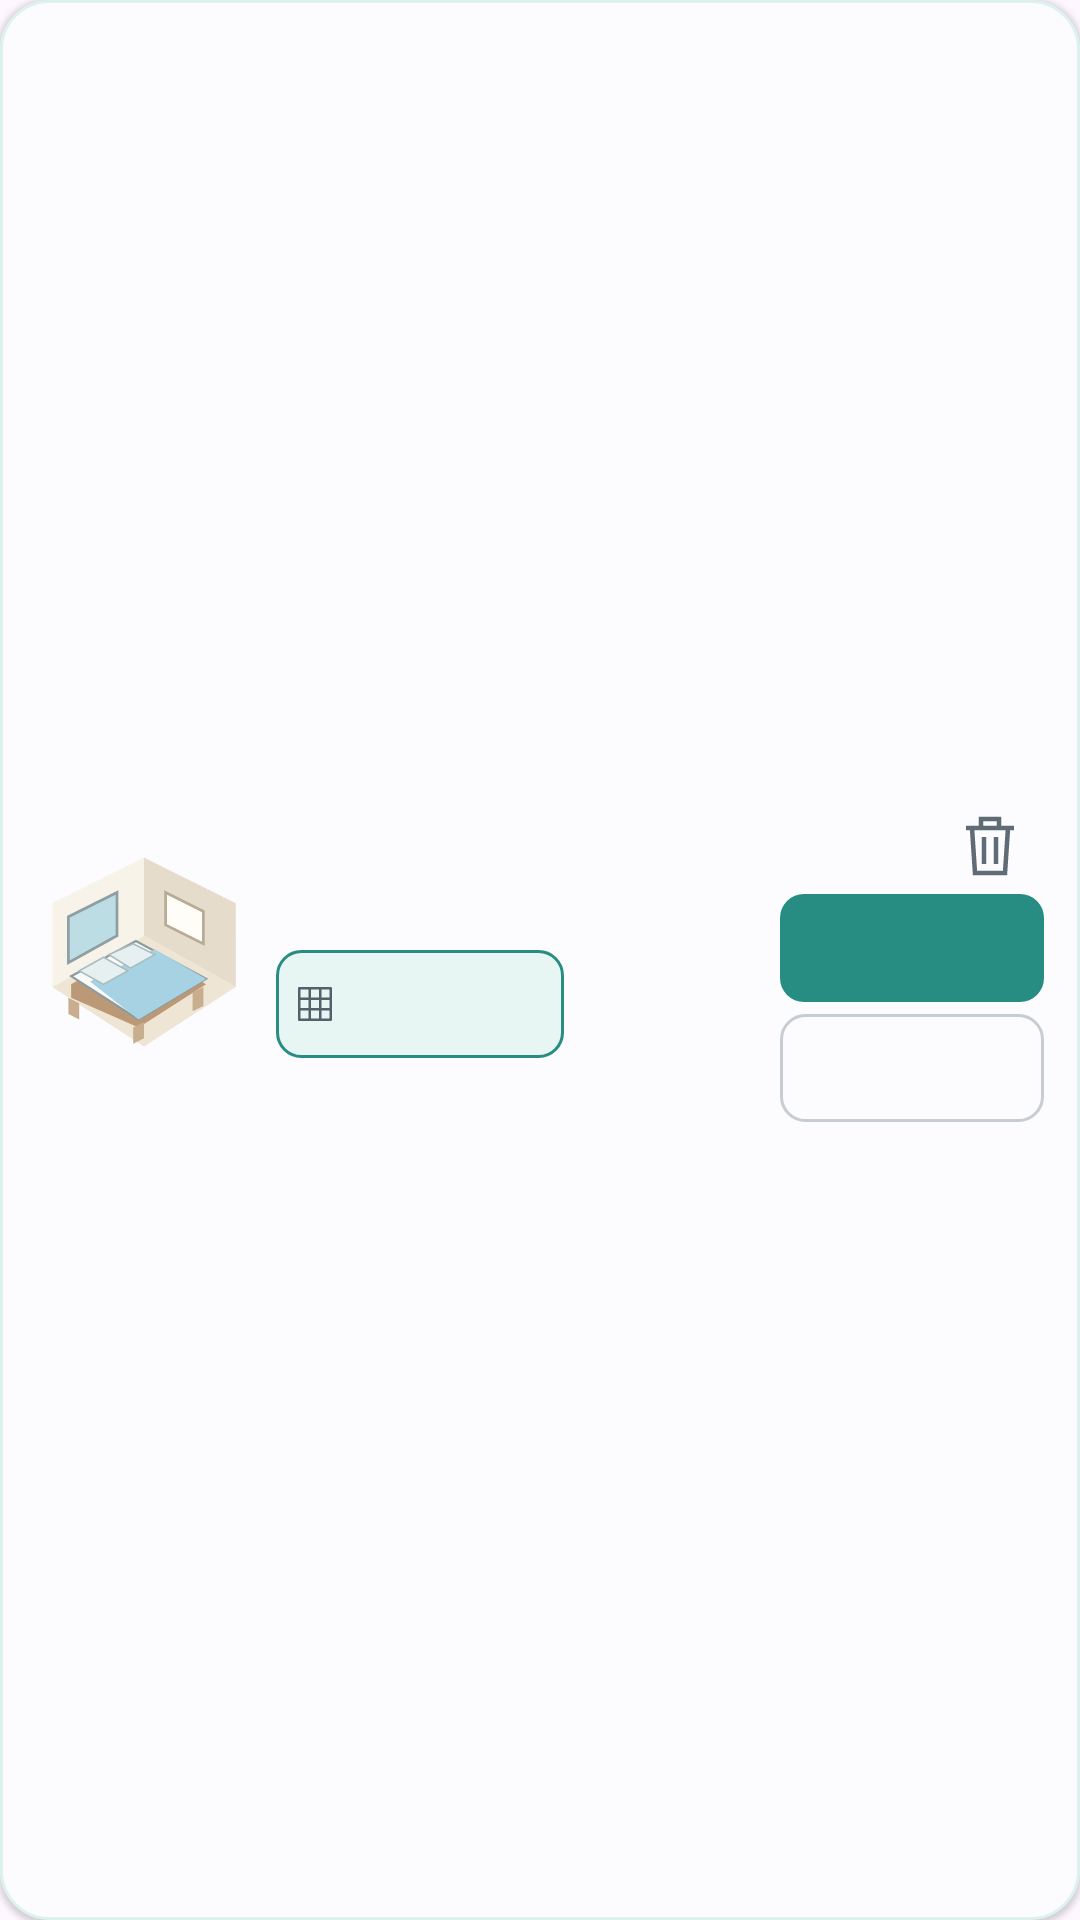

Screen size 1080px×1920px. Icon name, then its box in pixels as detection(x1, y1, x2, y2):
room: detection(53, 858, 236, 1046)
삭제: detection(966, 816, 1014, 876)
